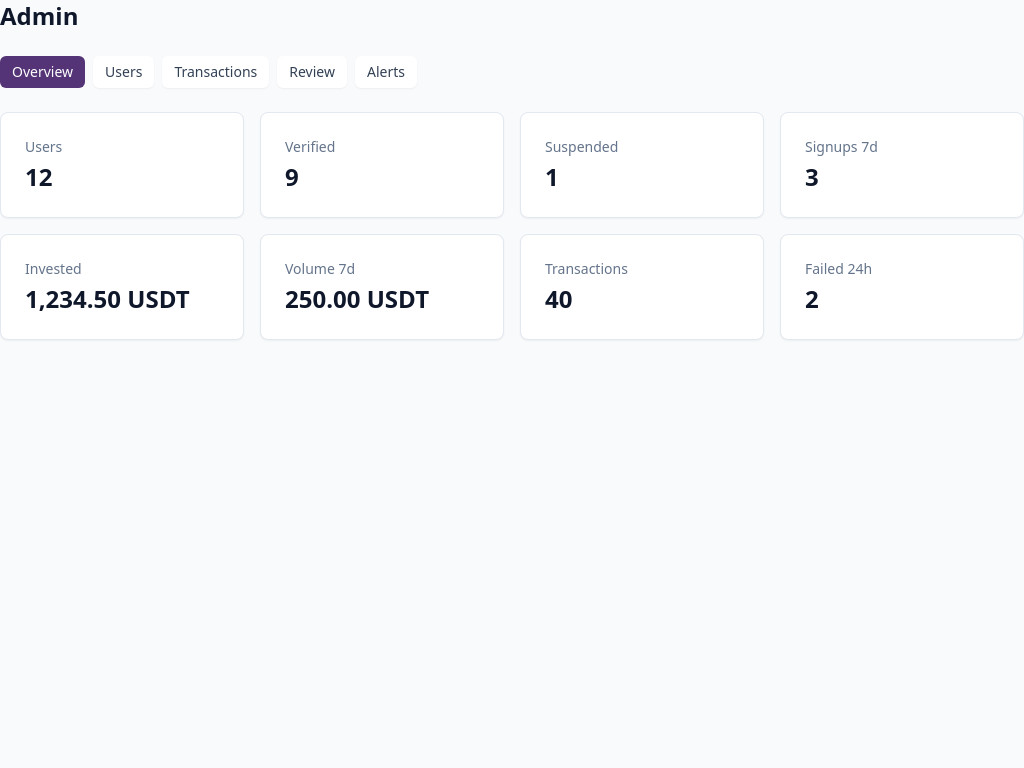
Test: Admin console › deleting sends the typed email as the confirmation and surfaces a server rejection
The image size is (1024, 768).
Click the button "Users".
click(124, 72)  # box [93,56,154,88]
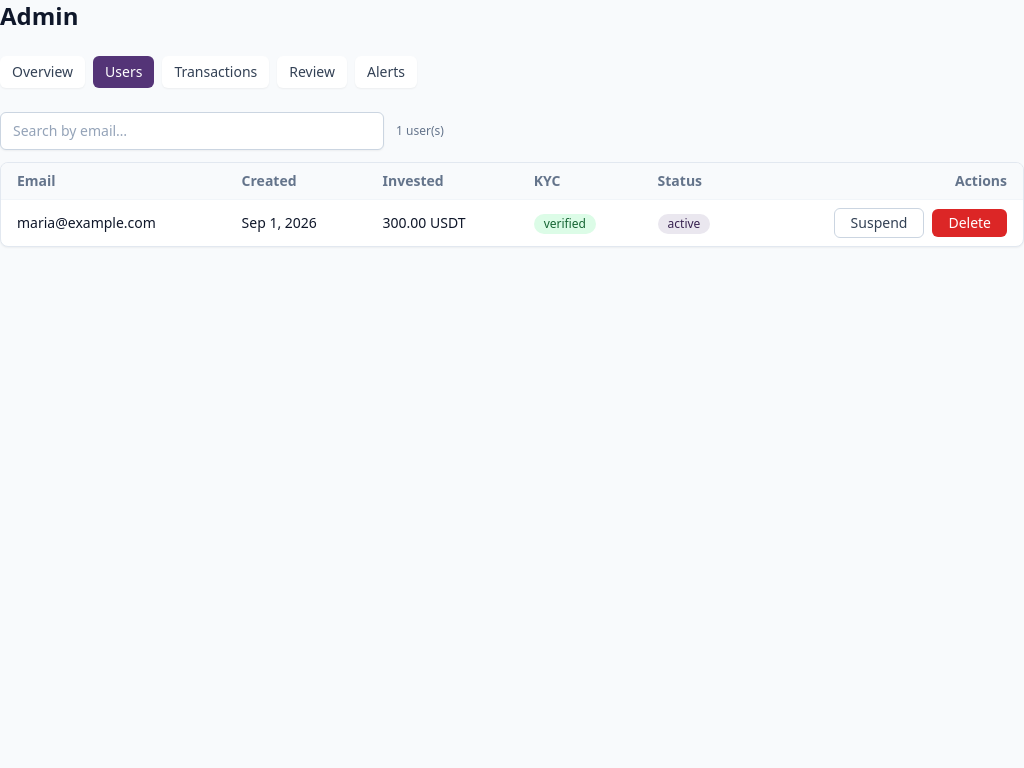
Click the button "Delete".
click(970, 223)  # box [932,209,1007,237]
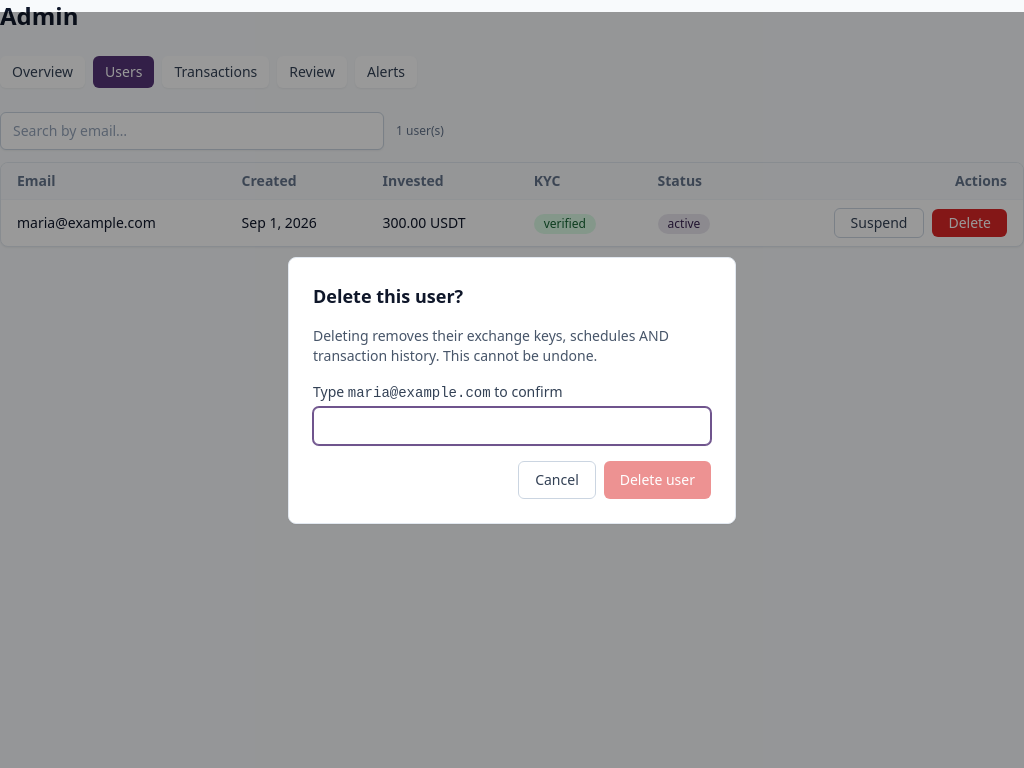
Type "maria@example.com" into the field labelled "Type maria@example.com to confirm".
click(512, 426); type("maria@example.com")  # box [313,406,711,444]
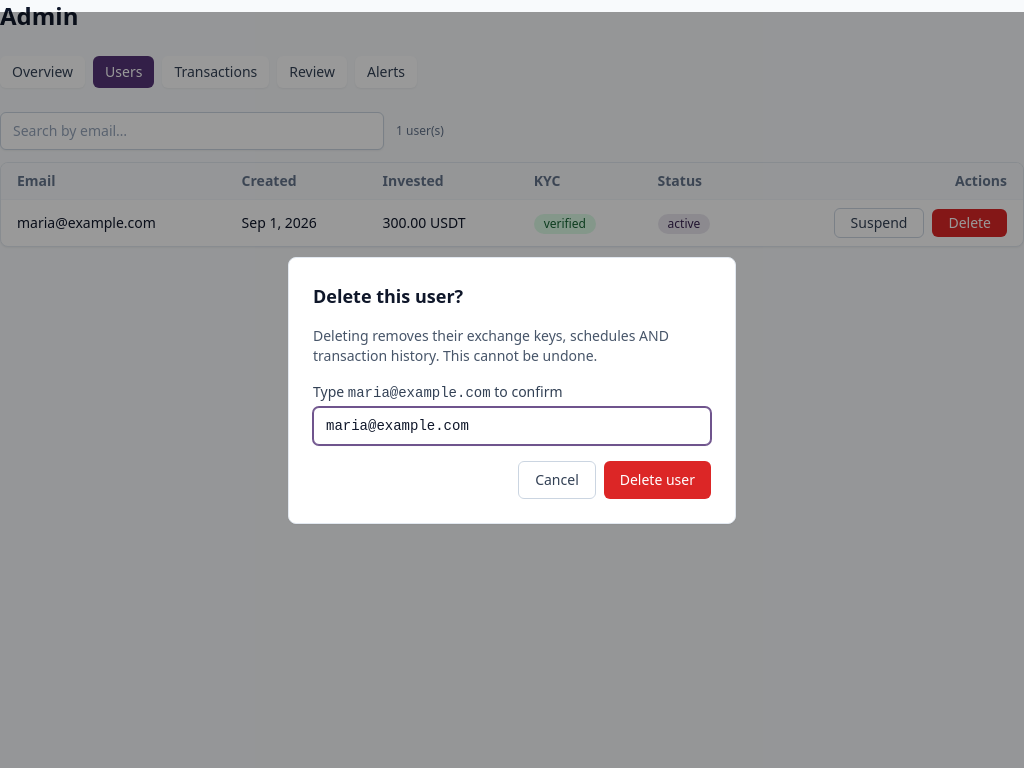
Click the button "Delete user".
click(657, 480)  # box [604,460,711,498]
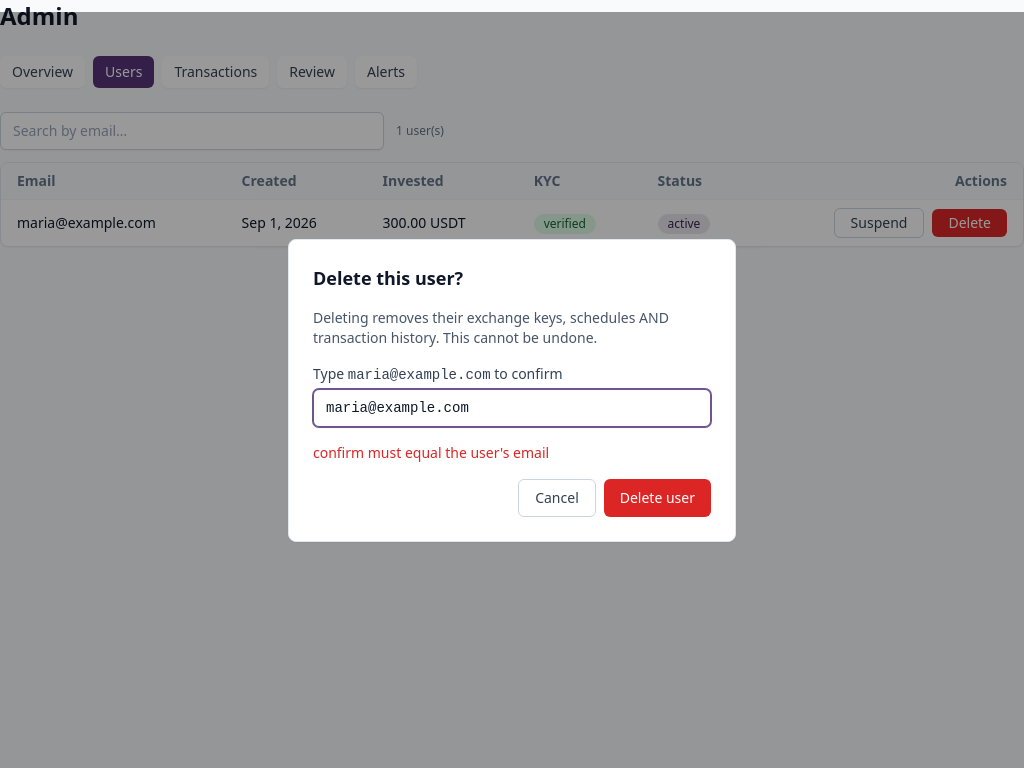
expect the dialog is shown: met, box [288,238,736,542]
expect the message shows "confirm must equal": met, box [313,442,549,462]
